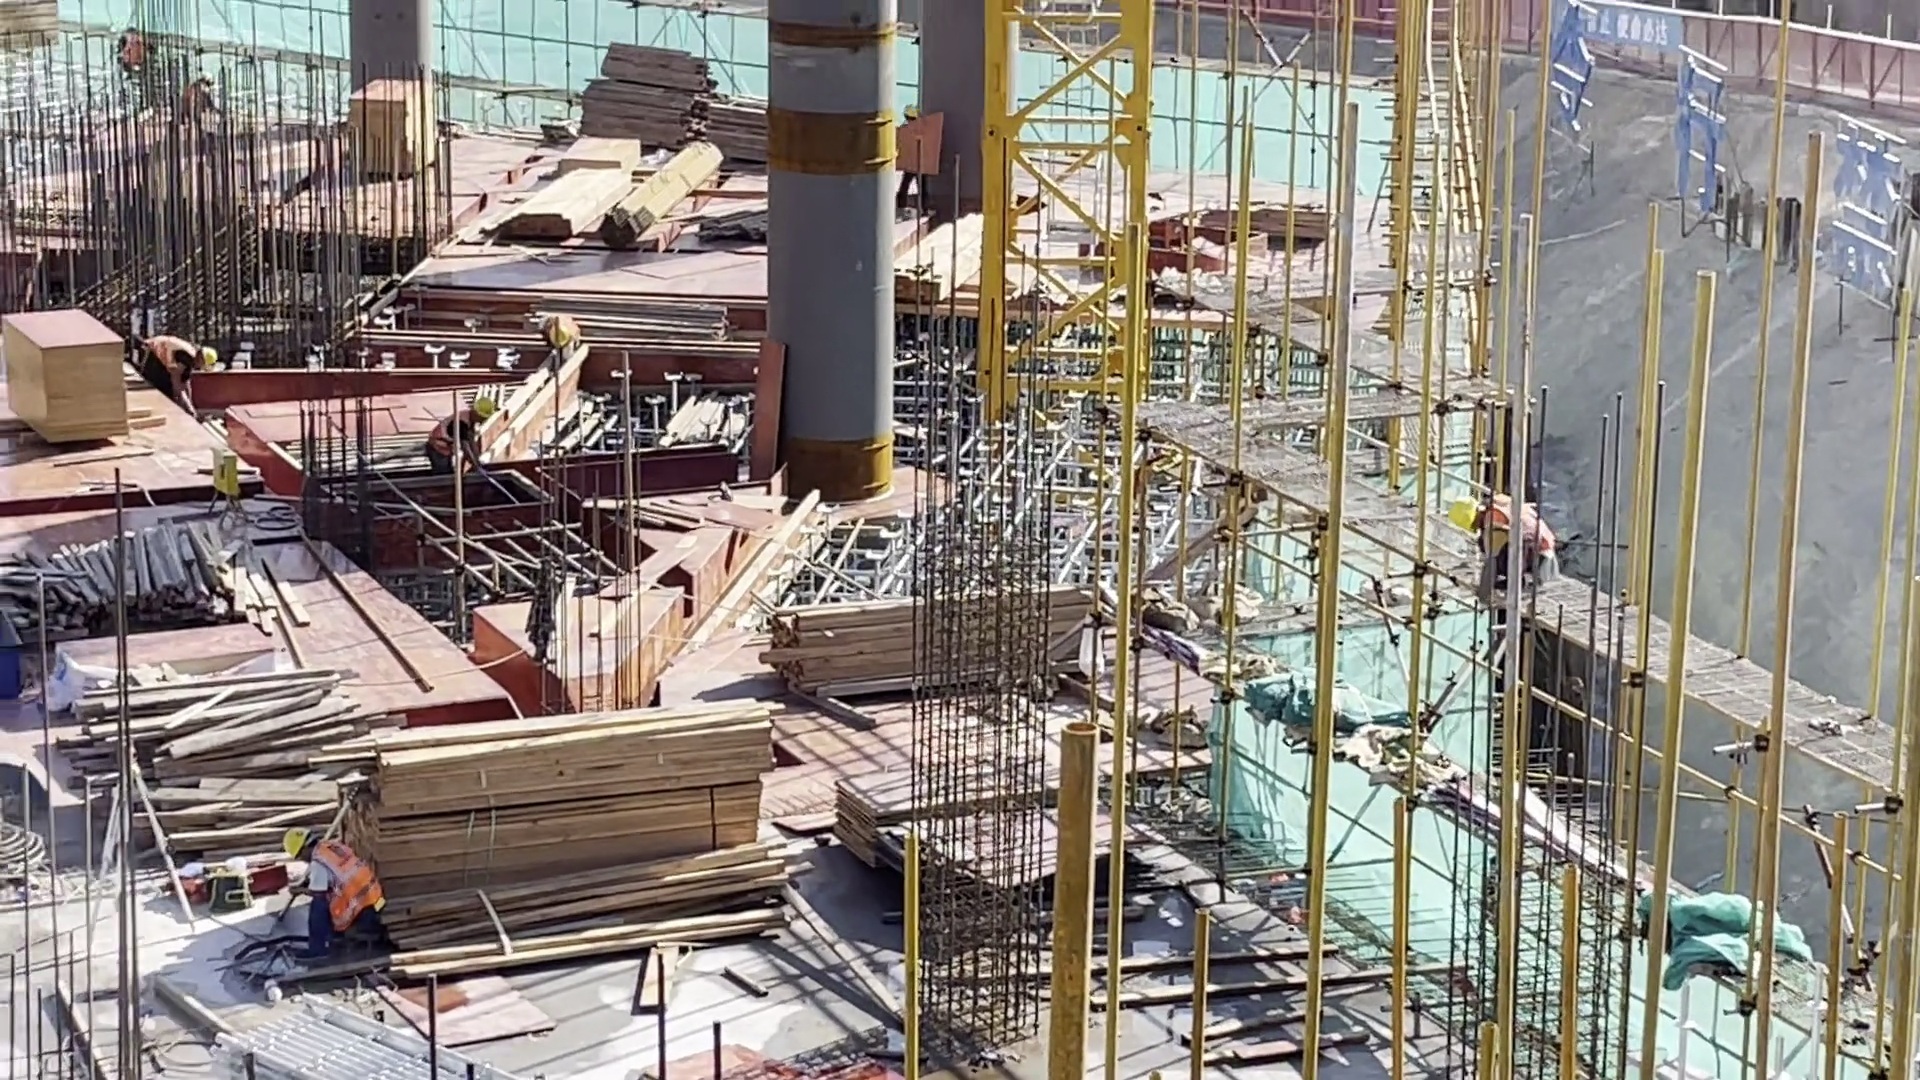board: (833, 751, 1147, 923), (2, 302, 129, 458), (344, 75, 446, 179)
helmet: (284, 820, 310, 865), (1444, 494, 1477, 525), (198, 339, 218, 376), (473, 398, 495, 419), (547, 328, 572, 343)
person: (280, 822, 393, 961), (1445, 497, 1563, 601), (134, 335, 218, 412), (425, 398, 501, 474), (900, 100, 932, 223), (185, 72, 219, 135), (114, 26, 155, 74), (548, 308, 585, 360)
scaffold: (210, 992, 508, 1080)
slogan: (1541, 10, 1911, 305), (1554, 5, 1672, 46)
vest: (321, 838, 384, 930), (1491, 499, 1557, 556), (428, 412, 473, 464), (143, 333, 194, 378)
wood: (306, 694, 791, 972), (69, 665, 373, 849), (755, 586, 1094, 703), (17, 518, 298, 629), (514, 161, 625, 241), (896, 208, 980, 309)
